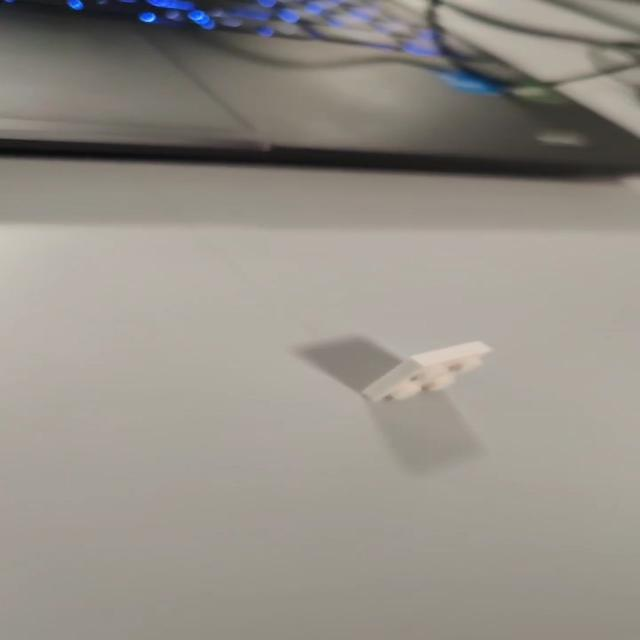C2x2x0: (362, 342, 496, 406)
